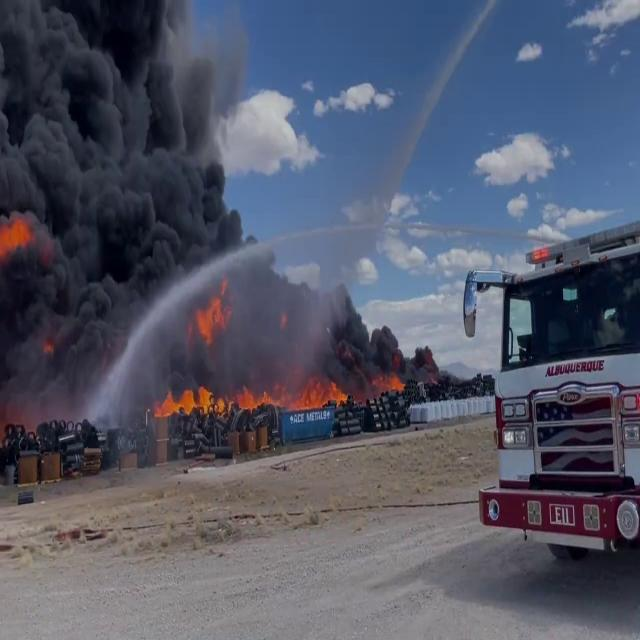Fire: (159, 372, 356, 422)
Smoke: (0, 0, 316, 397)
